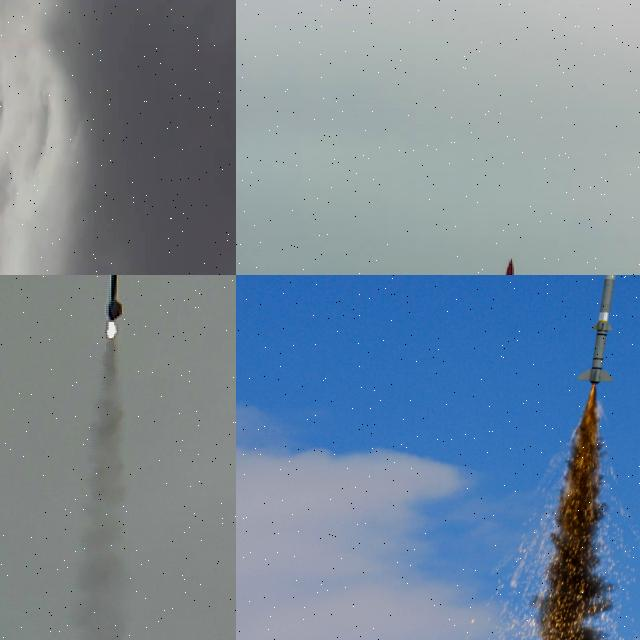Rocket: (576, 275, 616, 384), (105, 275, 123, 321), (485, 257, 524, 275)
